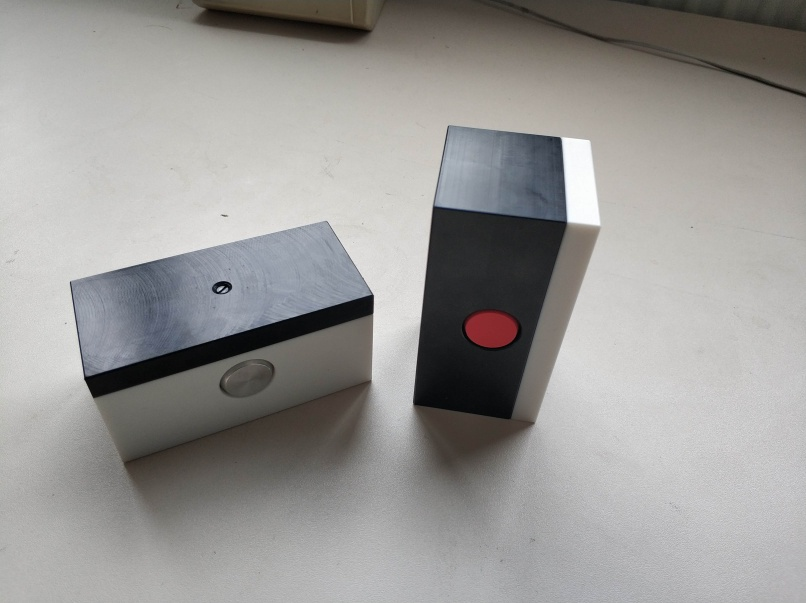black+white+silver: (68, 219, 375, 463)
white+black+red: (409, 122, 605, 424)
